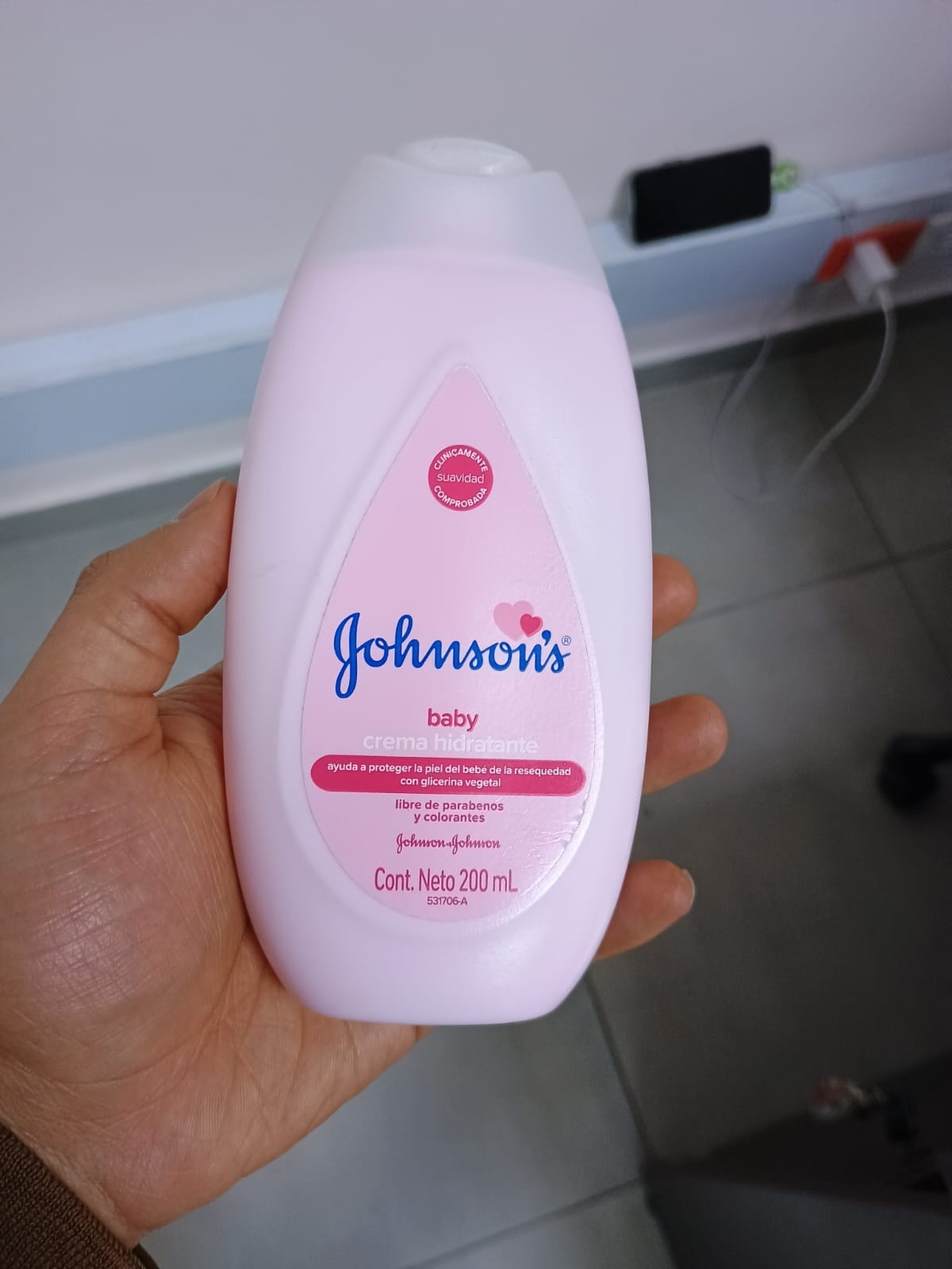Plastico: (223, 138, 657, 1025)
